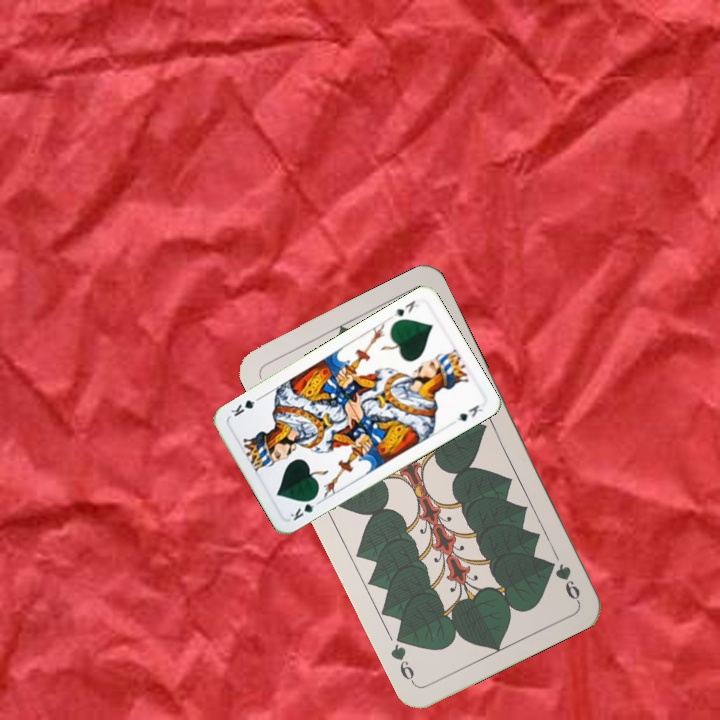G9: (551, 559, 583, 604)
GK: (286, 492, 320, 524), (389, 296, 422, 319)
